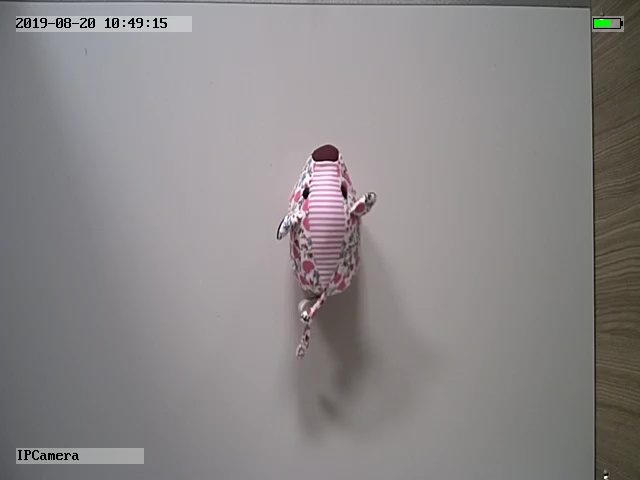pig: (274, 142, 377, 360)
